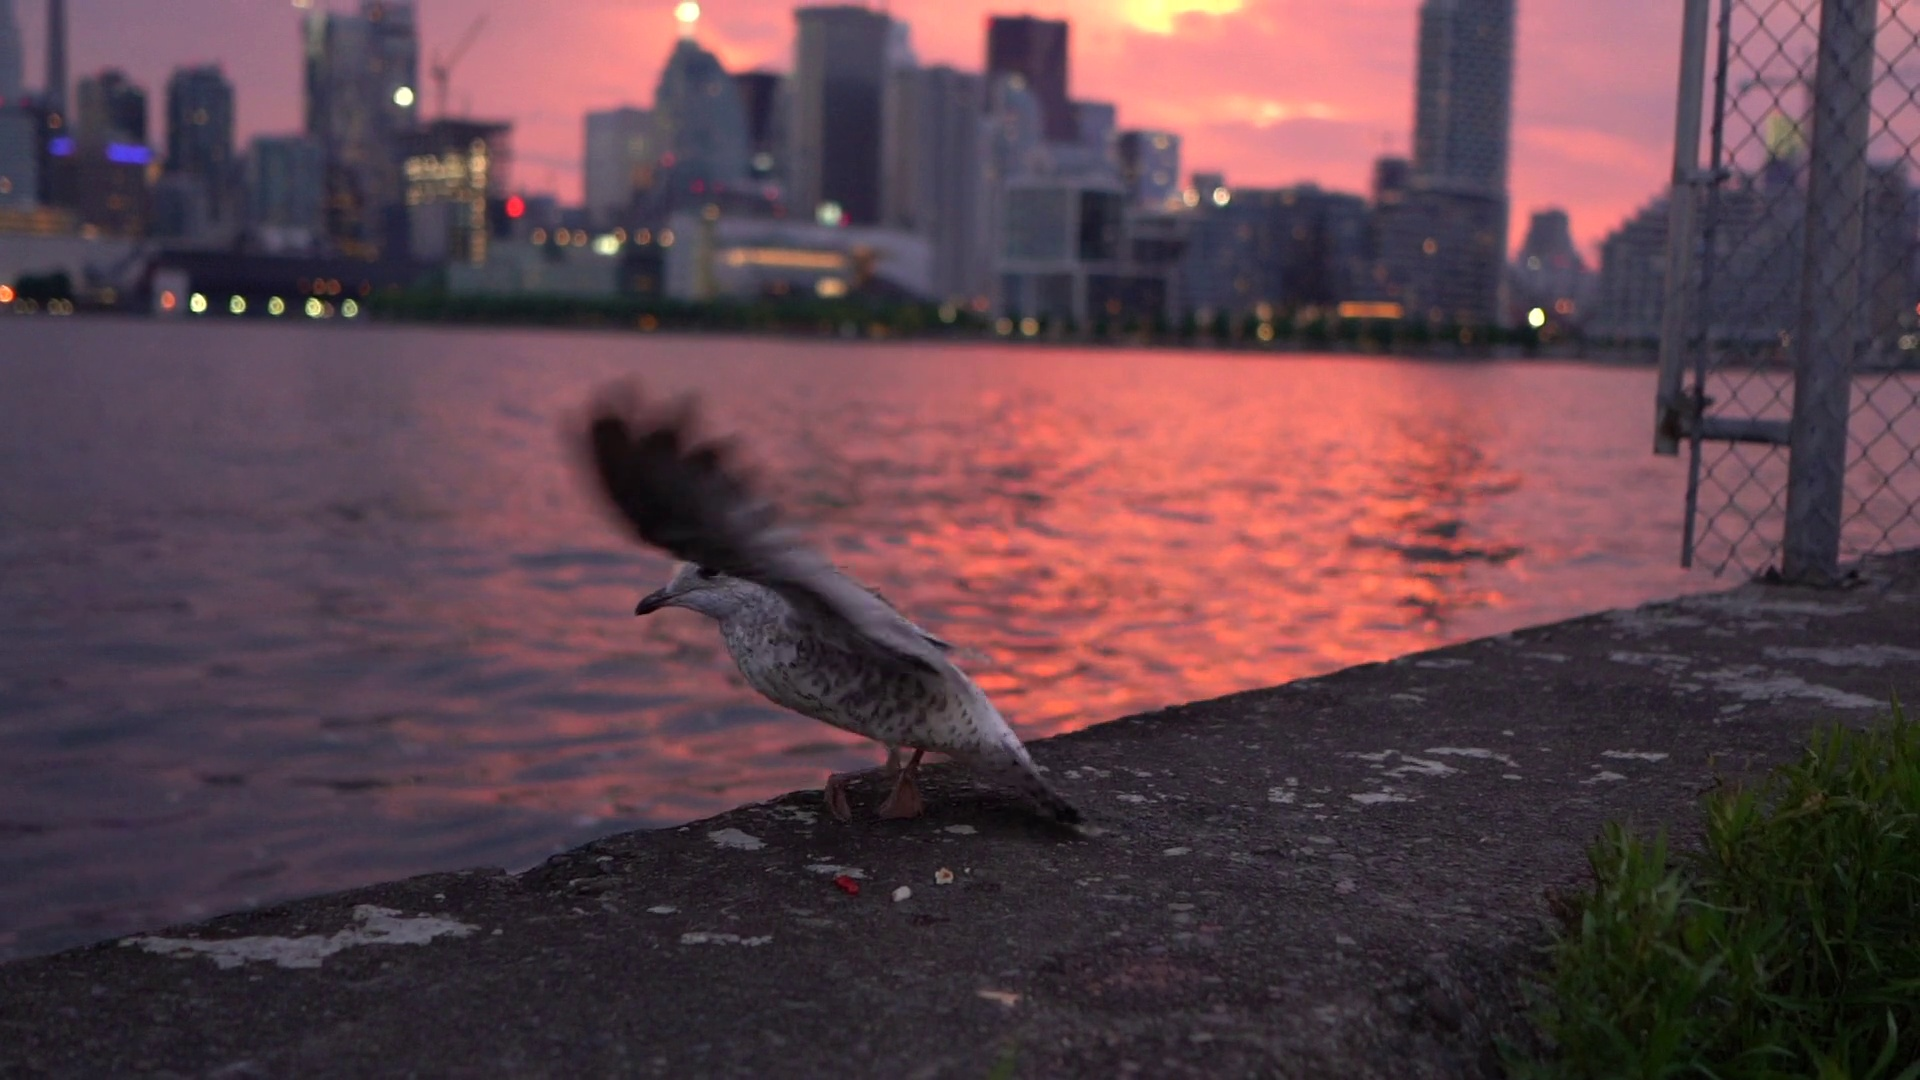bird: (591, 409, 1087, 833)
